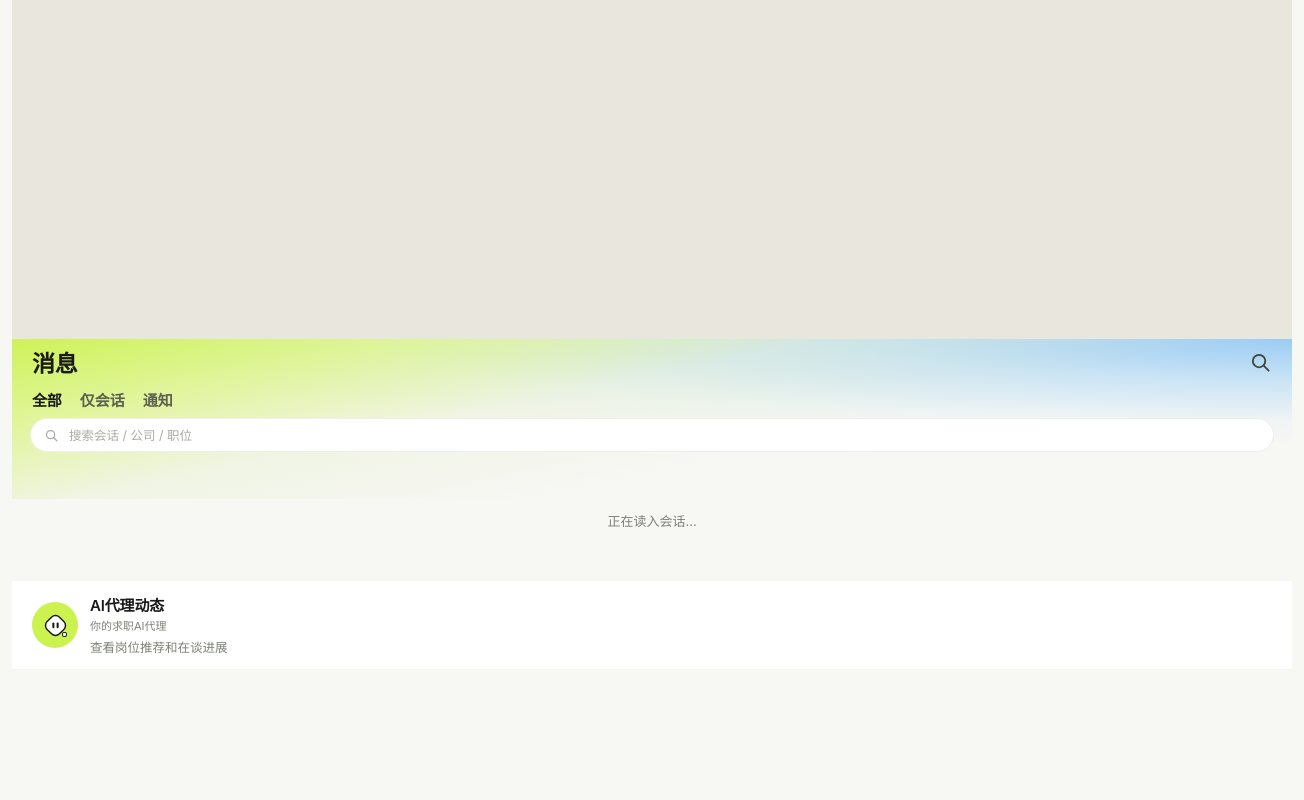
it: Backend会话列表 › 通知搜索不中直接显示无匹配；首读未完成且无缓存时全部只保留读入、不宣称搜完
(page scrolled)
Type "工资" into the field with placeholder "搜索会话 / 公司 / 职位" at (664, 435), box [67,419,1260,451]
(page scrolled)
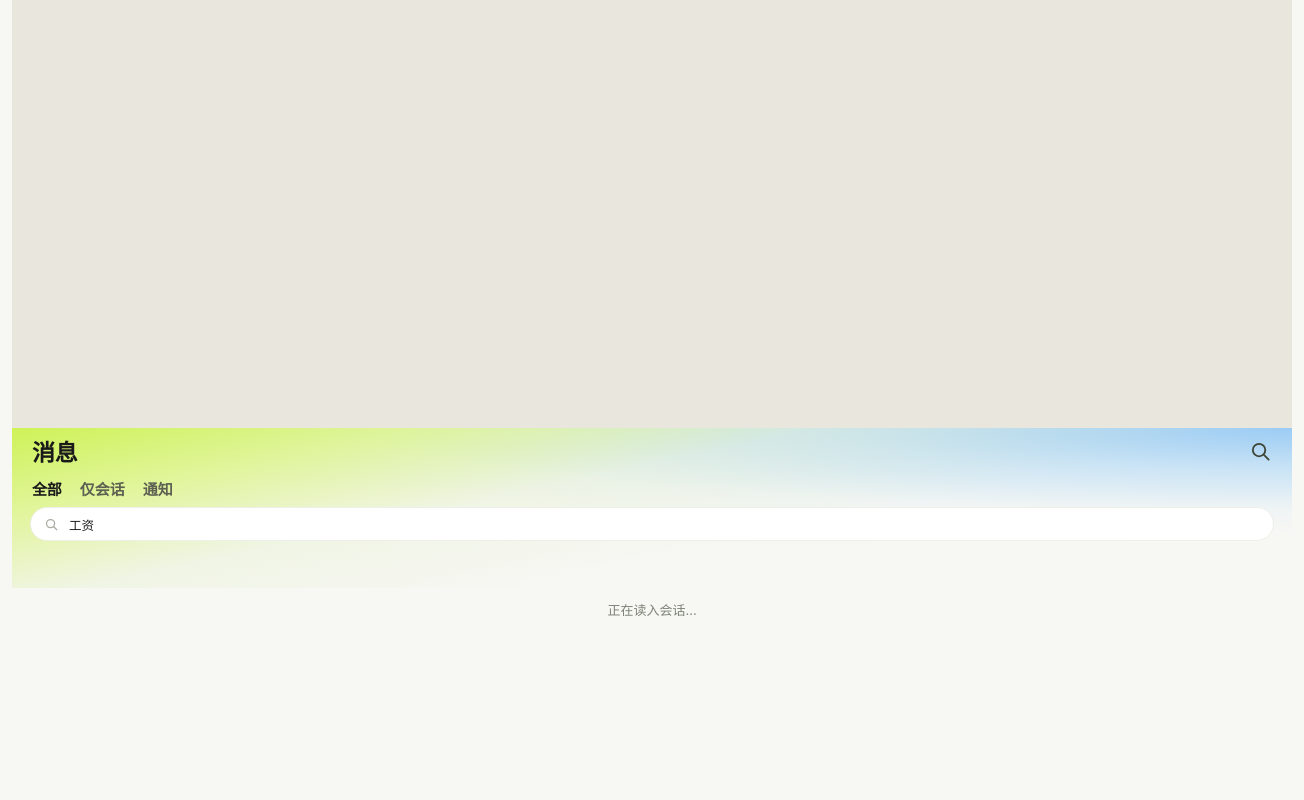
expect the text "正在读入会话…" is shown: met, box [607,602,697,618]
expect the button "AI代理动态" is gone: met
Click the button "通知" at (158, 488), box [143,478,173,499]
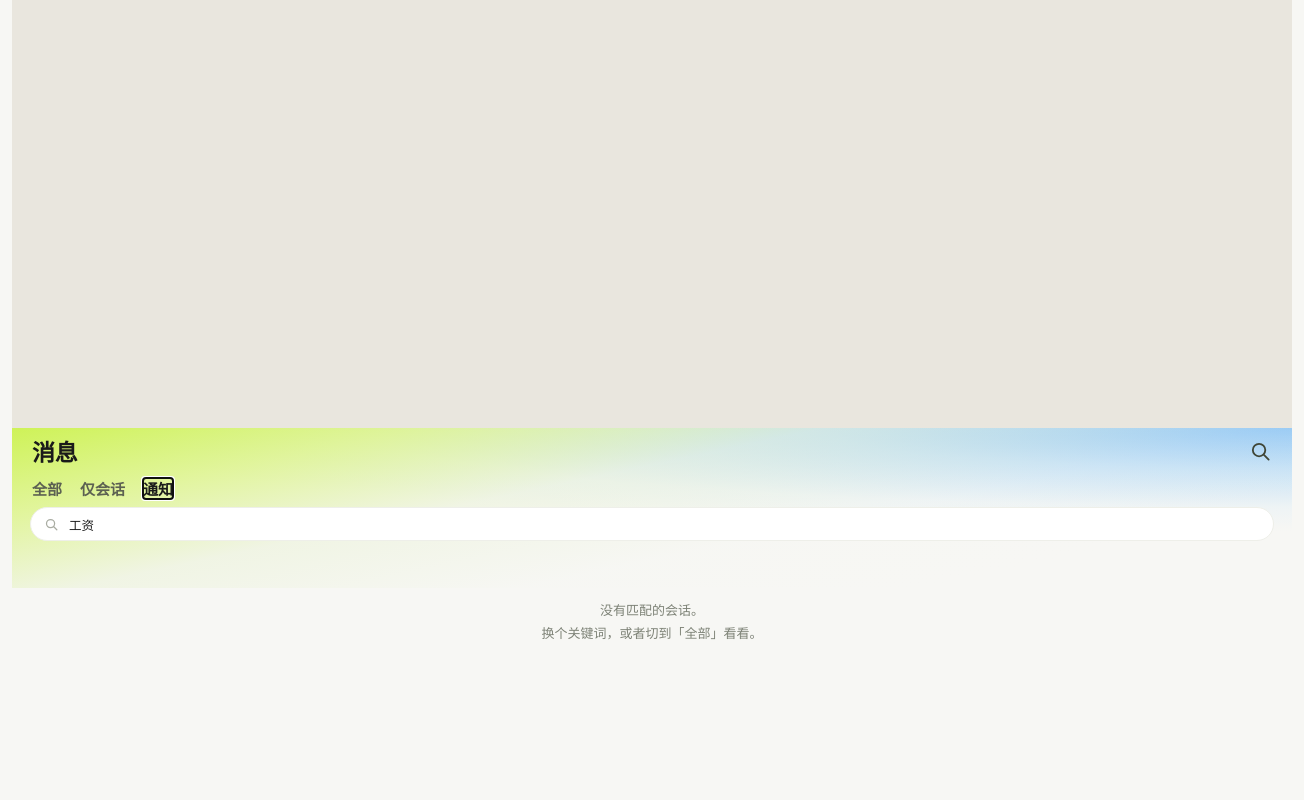
expect the button "AI代理动态" is not shown: met
expect the text "正在读入会话…" is gone: met
